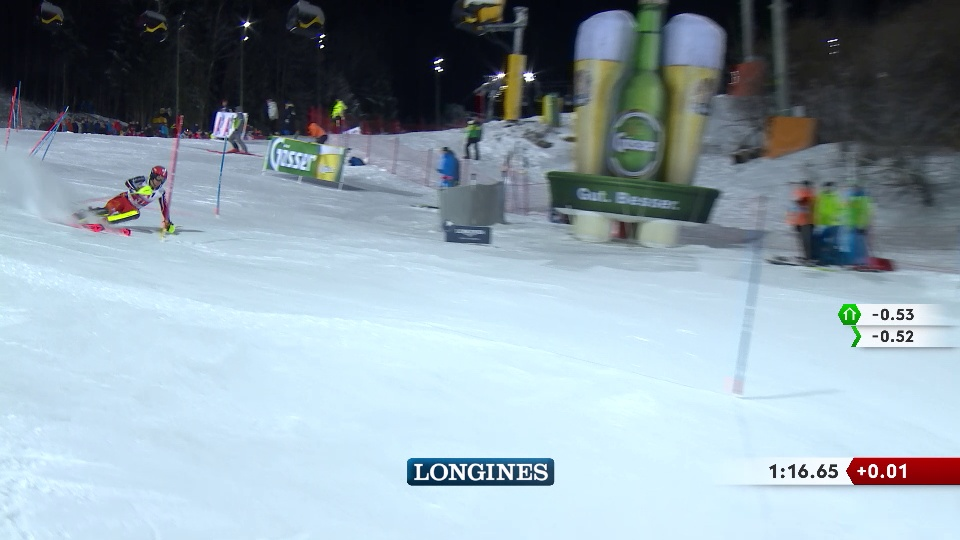goesser: (565, 20, 712, 208), (268, 141, 334, 181)
longines: (411, 460, 558, 487)
